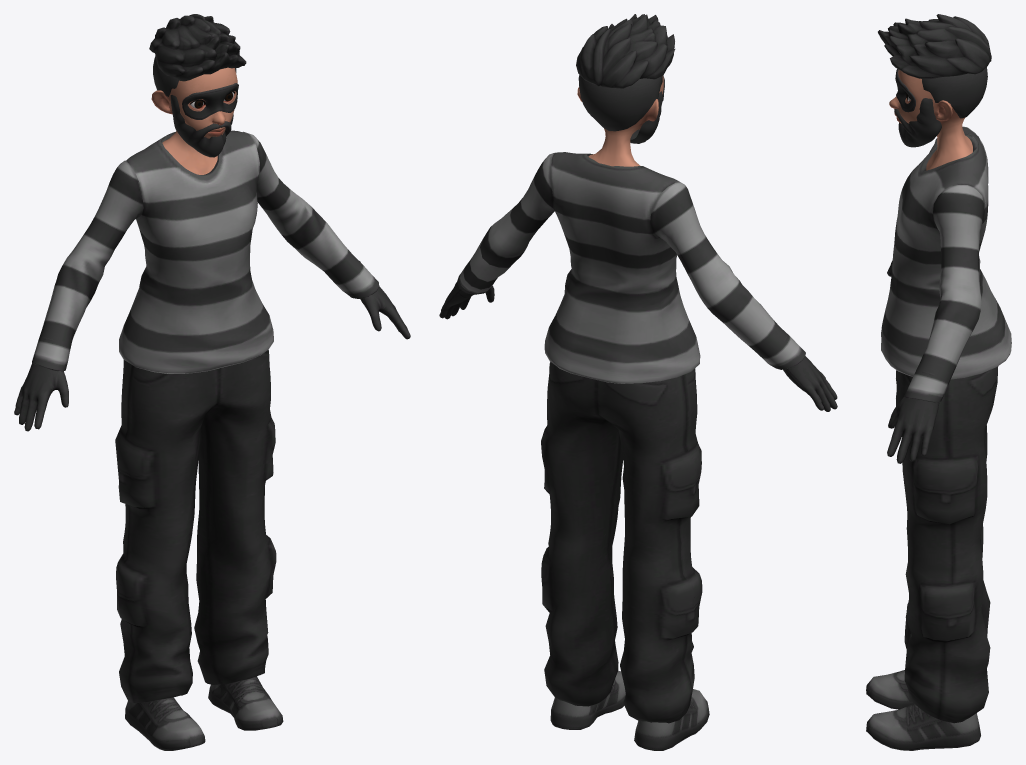
Rendered from Burglar_Mesh.obj.
The picture shows the model from 3 angles, left to right: view 1: azimuth 30°, elevation 25°; view 2: azimuth 150°, elevation 25°; view 3: azimuth 270°, elevation 25°; orthographic projection.
Visible parts, largest first — view 1: Burglar_Mesh_0; view 2: Burglar_Mesh_0; view 3: Burglar_Mesh_0.
Part boxes in pixels (<box>): Burglar_Mesh_0: <box>14,14,410,750</box>; Burglar_Mesh_0: <box>439,14,837,750</box>; Burglar_Mesh_0: <box>866,14,1011,750</box>.
Bounding box in the file's own units: 1.06 × 1.85 × 0.3468.
1 material, 1 textured.
